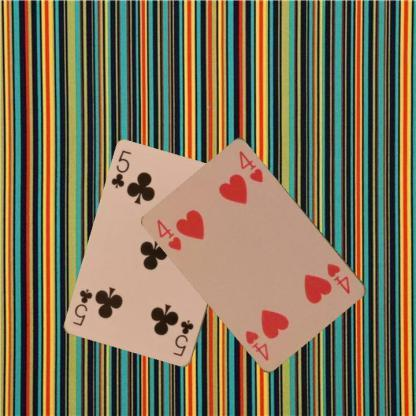4h: (154, 217, 183, 252), (324, 260, 352, 296)
5c: (170, 317, 196, 358), (109, 147, 133, 190)
